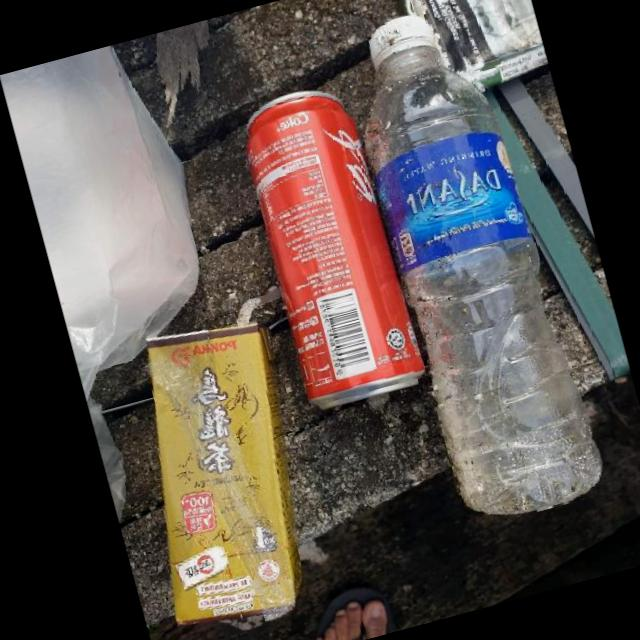chai_nhua_pet: (365, 15, 603, 517)
nhom: (246, 90, 426, 411)
vo_hop_sua: (147, 323, 303, 627)
